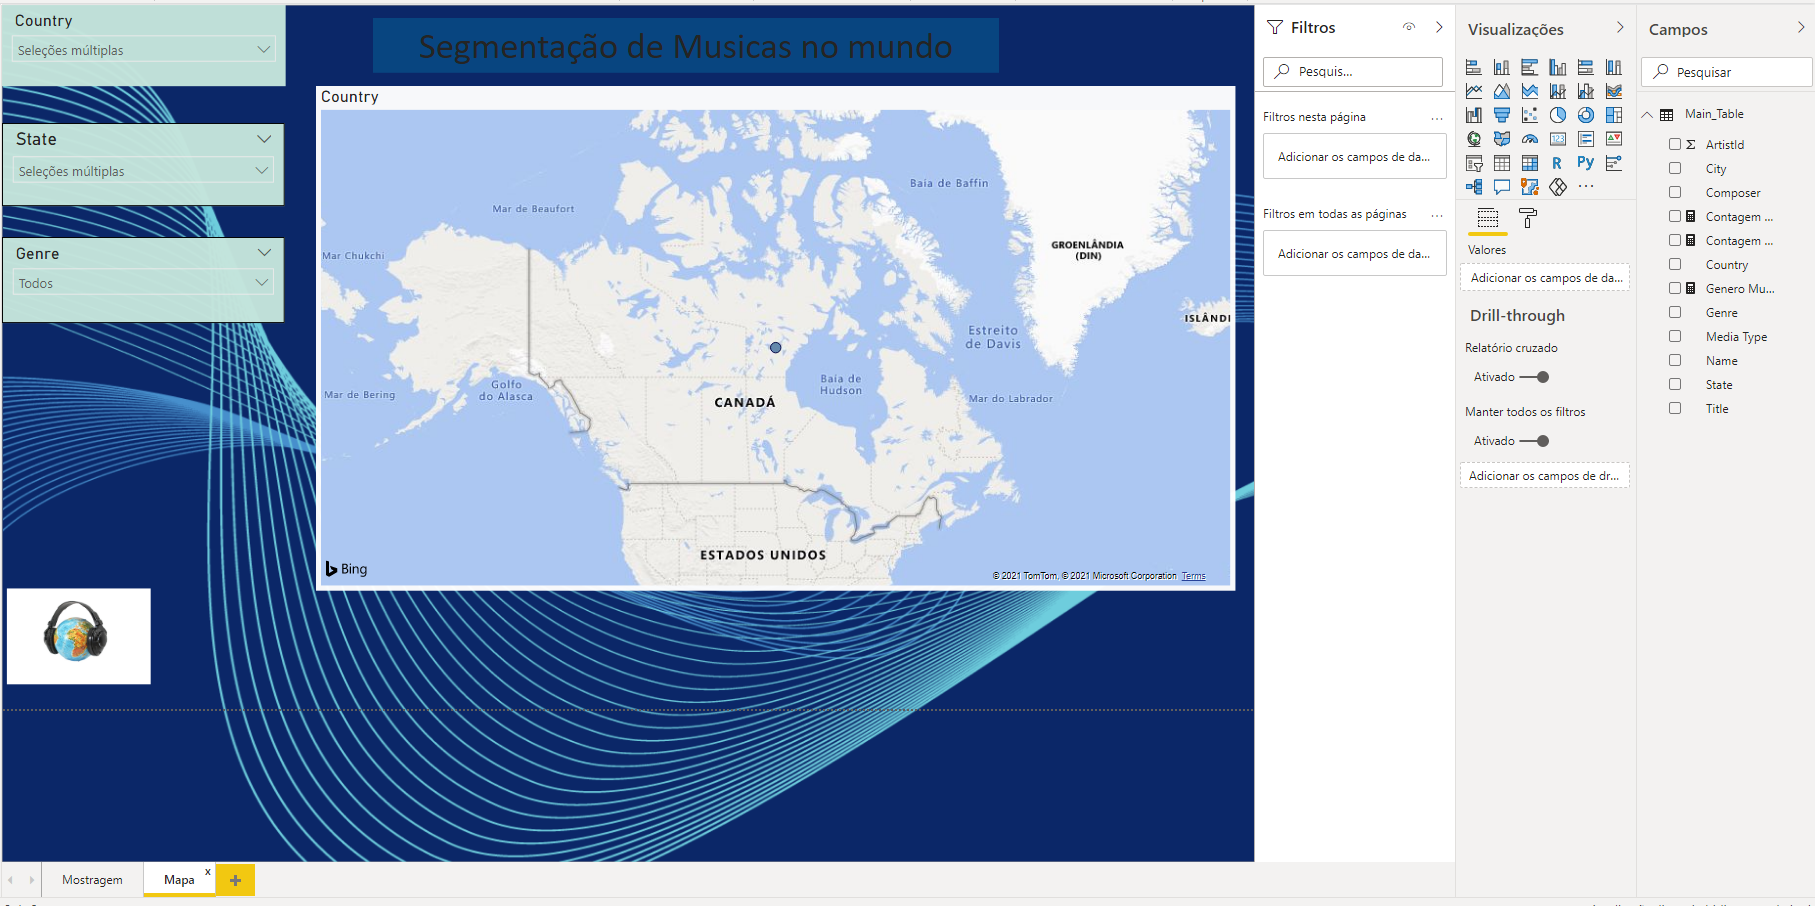

This screenshot's page, from the dashboard's own definition file:
{"tool":"powerbi","page":{"name":"Mapa","canvas":[1280,720],"ordinal":1},"visuals":[{"type":"slicer","fields":{"Values":["Main_Table.Country"]},"box":[0,0,290.4,82.8],"z":1000},{"type":"slicer","fields":{"Values":["Main_Table.State"]},"box":[0,120.6,289.3,84.9],"z":2000},{"type":"textbox","box":[379.3,13.3,640,56.2],"z":3000},{"type":"slicer","fields":{"Values":["Main_Table.Genre"]},"box":[0,237.2,289.3,87.9],"z":4000},{"type":"image","box":[0,571.5,157.4,148.2],"z":7000},{"type":"map","fields":{"Category":["Main_Table.Country"]},"box":[321,82.8,939.6,516.3],"z":8000}]}

Visuals, with their boxes on the page's 1280x720 design canvas (x1, y1, x2, y2). These are canvas units, not pixel positions in the 1815x906 screenshot, which may show the page scaled, cropped or inside an application window:
slicer - Main_Table.Country: Rect(0, 0, 290, 83)
slicer - Main_Table.State: Rect(0, 121, 289, 206)
textbox: Rect(379, 13, 1019, 70)
slicer - Main_Table.Genre: Rect(0, 237, 289, 325)
image: Rect(0, 572, 157, 720)
map - Main_Table.Country: Rect(321, 83, 1261, 599)
